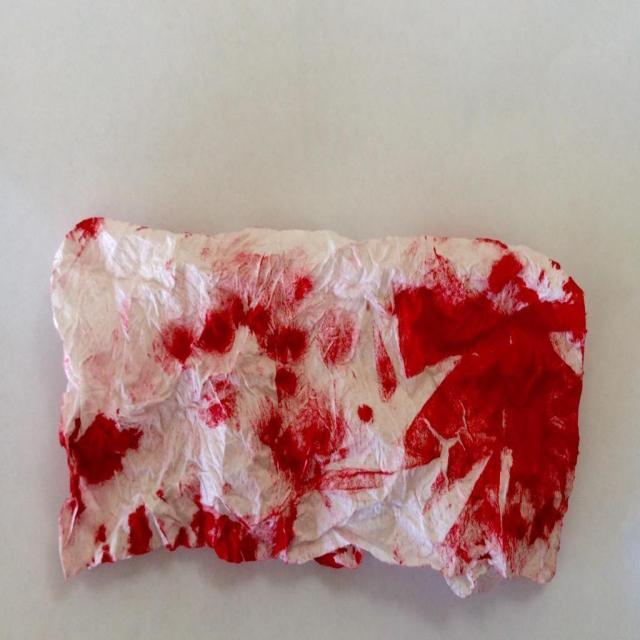flood: (64, 221, 566, 575)
